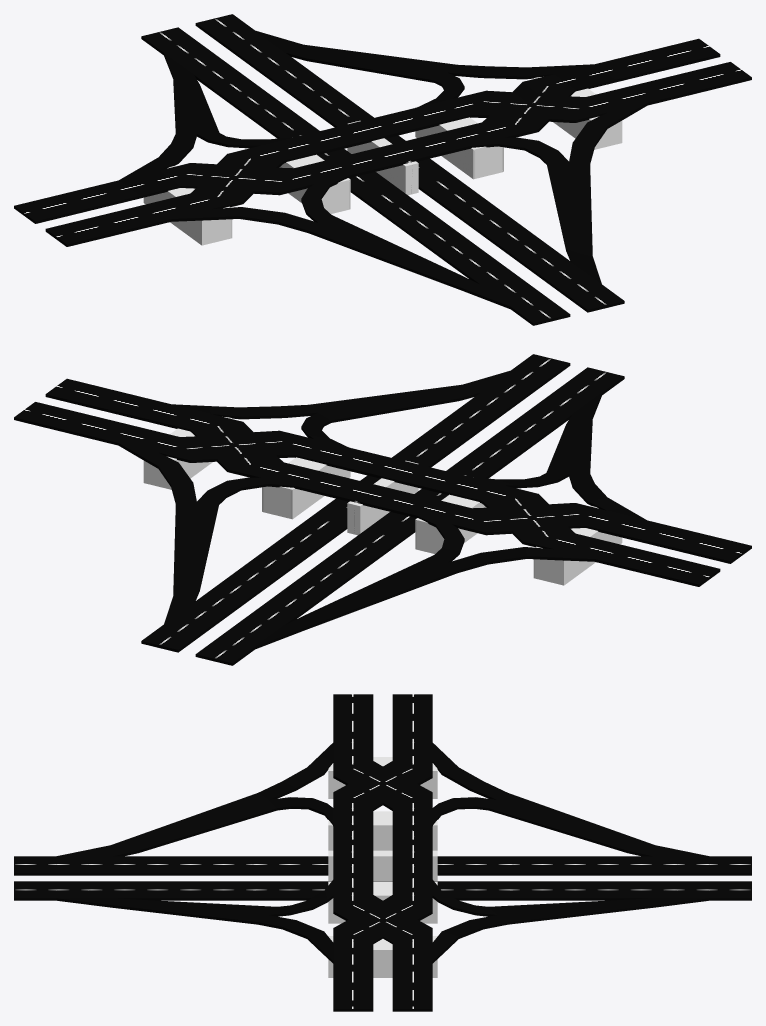
The model's file is Interseccion.fbx.
3 renders of one model, top to bottom at view 1: azimuth 30°, elevation 25°; view 2: azimuth 150°, elevation 25°; view 3: azimuth 270°, elevation 25°, orthographic. The views are drawn at different scales.
Parts seen in each view (by area): view 1: Cube; view 2: Cube; view 3: Cube.
Boxes of the visible parts, x1=… form: Cube: x1=14, y1=14, x2=751, y2=325; Cube: x1=14, y1=354, x2=751, y2=665; Cube: x1=14, y1=694, x2=751, y2=1011.
Bounding box in the file's own units: 7411 × 325 × 7344.
Materials: 1 (1 with a texture image).
